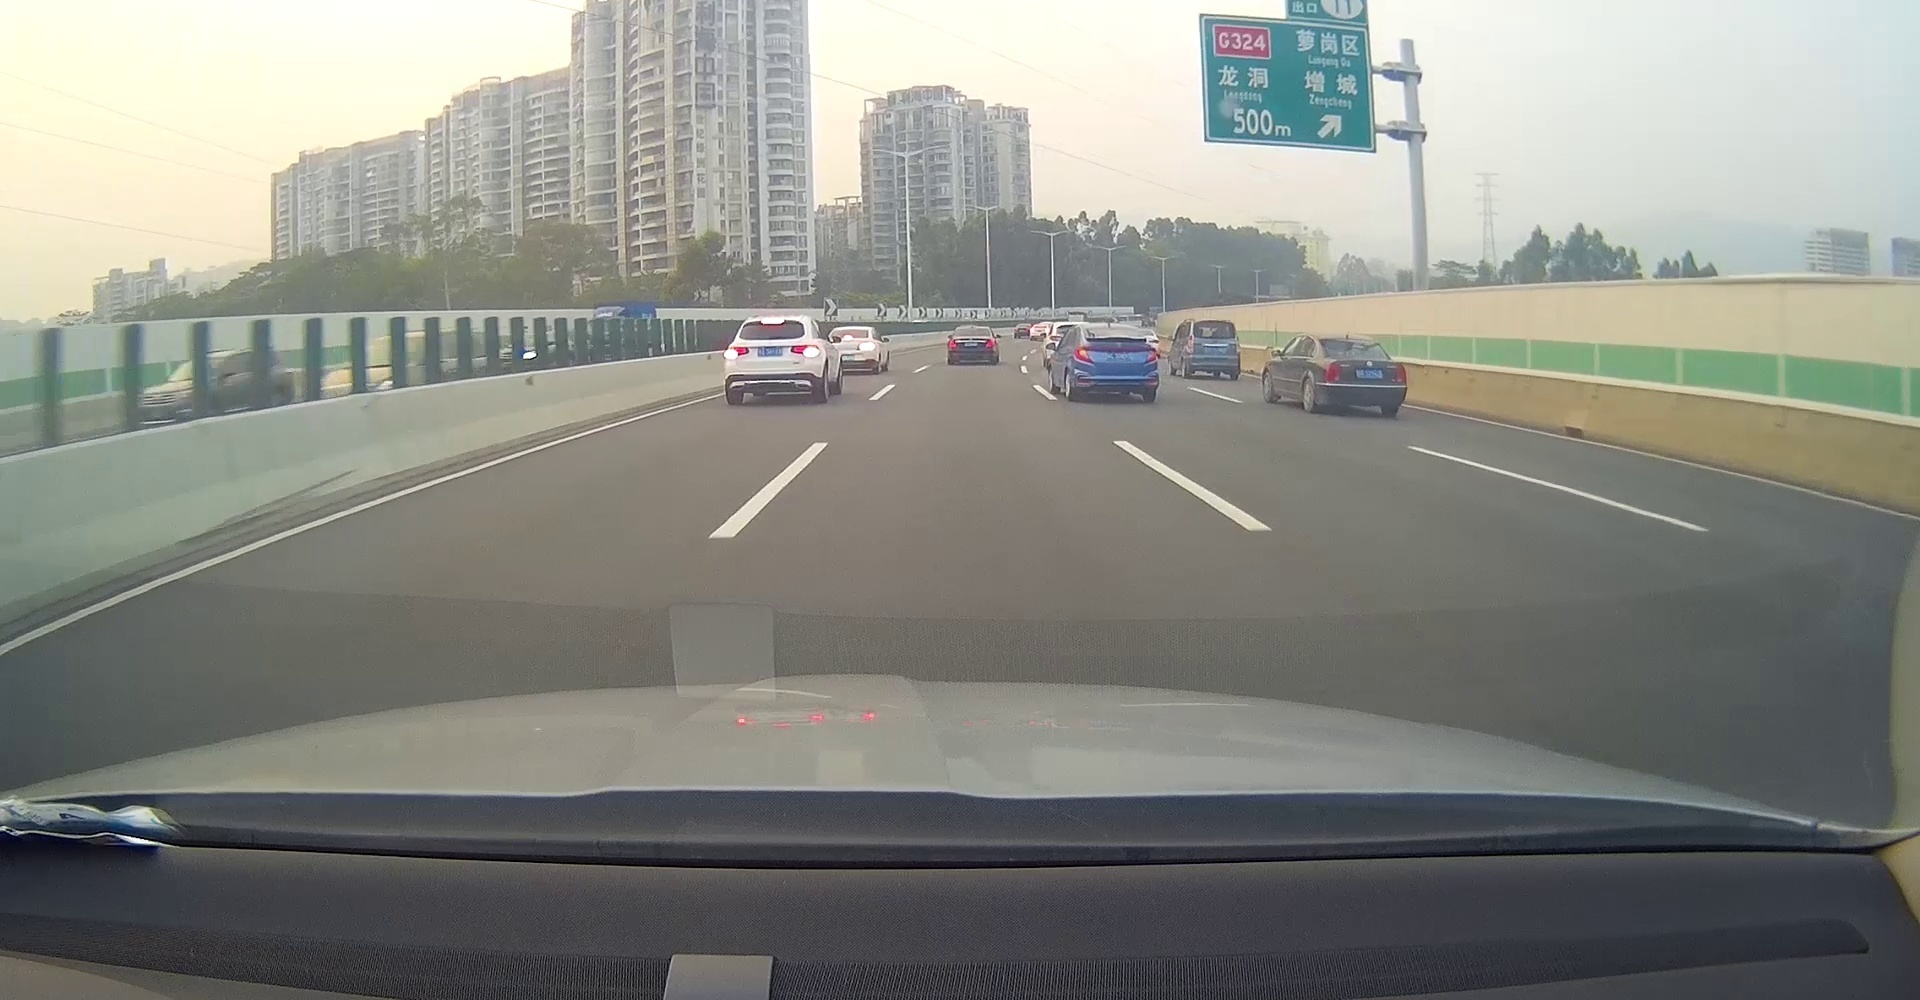L_light: (1322, 360, 1342, 385), (1074, 346, 1093, 365), (728, 346, 749, 358), (1186, 334, 1192, 354), (949, 338, 957, 350)
R_light: (790, 345, 818, 357), (1390, 364, 1404, 385), (1144, 349, 1158, 363), (1234, 335, 1241, 355), (985, 338, 996, 349)
T_light: (1345, 339, 1361, 344), (1112, 329, 1130, 332), (761, 321, 781, 324), (1208, 321, 1220, 324), (969, 327, 977, 330)
day-brake: (724, 316, 822, 405)
day-left: (1072, 324, 1159, 404)
day-no: (1316, 335, 1407, 414), (1183, 319, 1242, 379), (947, 325, 998, 365)
